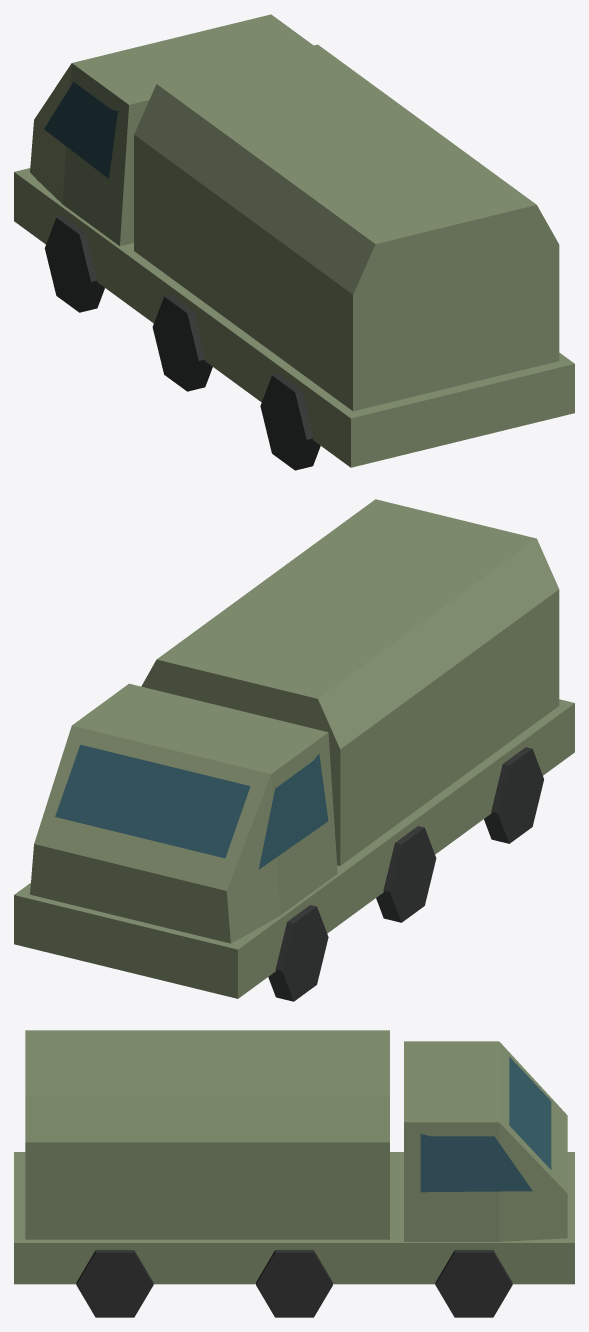
File: military_far.glb
3 views of the same model, one above another, from view 1: azimuth 30°, elevation 25°; view 2: azimuth 150°, elevation 25°; view 3: azimuth 270°, elevation 25° (orthographic). The views are drawn at different scales.
Parts seen in each view (by area): view 1: MilitaryModel traffic_olive, MilitaryModel traffic_rubber, MilitaryModel traffic_glass; view 2: MilitaryModel traffic_olive, MilitaryModel traffic_glass, MilitaryModel traffic_rubber; view 3: MilitaryModel traffic_olive, MilitaryModel traffic_rubber, MilitaryModel traffic_glass.
Boxes of the visible parts, x1=… form: MilitaryModel traffic_olive: x1=14, y1=14, x2=574, y2=467; MilitaryModel traffic_rubber: x1=44, y1=216, x2=320, y2=470; MilitaryModel traffic_glass: x1=44, y1=82, x2=117, y2=178; MilitaryModel traffic_olive: x1=14, y1=499, x2=574, y2=998; MilitaryModel traffic_glass: x1=55, y1=744, x2=328, y2=869; MilitaryModel traffic_rubber: x1=268, y1=747, x2=543, y2=1001; MilitaryModel traffic_olive: x1=14, y1=1030, x2=574, y2=1284; MilitaryModel traffic_rubber: x1=76, y1=1250, x2=512, y2=1317; MilitaryModel traffic_glass: x1=420, y1=1057, x2=551, y2=1192.
Size of the model in its own units: 2.68 by 2.67 by 6.58.
